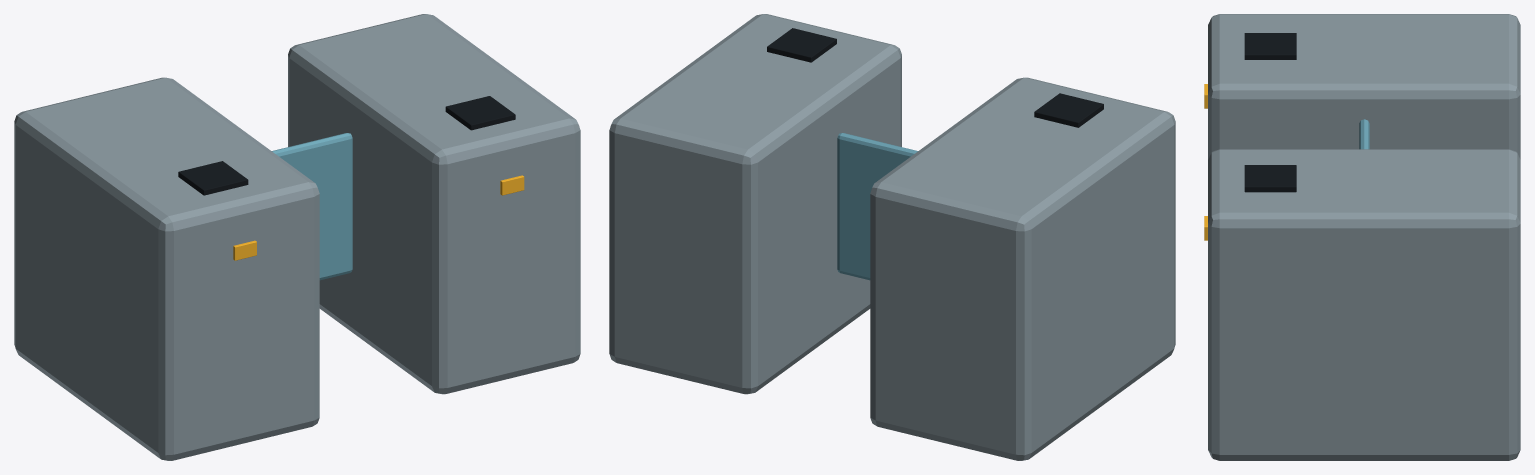
The model's file is edited.glb.
3 views of the same model, side by side, from view 1: azimuth 30°, elevation 25°; view 2: azimuth 150°, elevation 25°; view 3: azimuth 270°, elevation 25° (orthographic).
Parts seen in each view (by area): view 1: CABINET.001, CABINET, FLAP, READER, READER.001; view 2: CABINET.001, CABINET, FLAP, READER, READER.001; view 3: CABINET, CABINET.001, READER.001, READER.
Part boxes in pixels (box(x1,y1,x2,y2)): CABINET.001: box(14, 77, 319, 460); CABINET: box(288, 14, 580, 394); FLAP: box(272, 133, 352, 280); READER: box(178, 161, 248, 195); READER.001: box(445, 96, 515, 130); CABINET.001: box(870, 77, 1175, 460); CABINET: box(609, 14, 901, 394); FLAP: box(837, 133, 917, 280); READER: box(1034, 93, 1103, 127); READER.001: box(767, 28, 836, 62); CABINET: box(1208, 149, 1520, 460); CABINET.001: box(1208, 14, 1520, 159); READER.001: box(1244, 165, 1296, 192); READER: box(1244, 33, 1296, 59).
Size of the model in its own units: 1.89 by 1.07 by 1.21.
